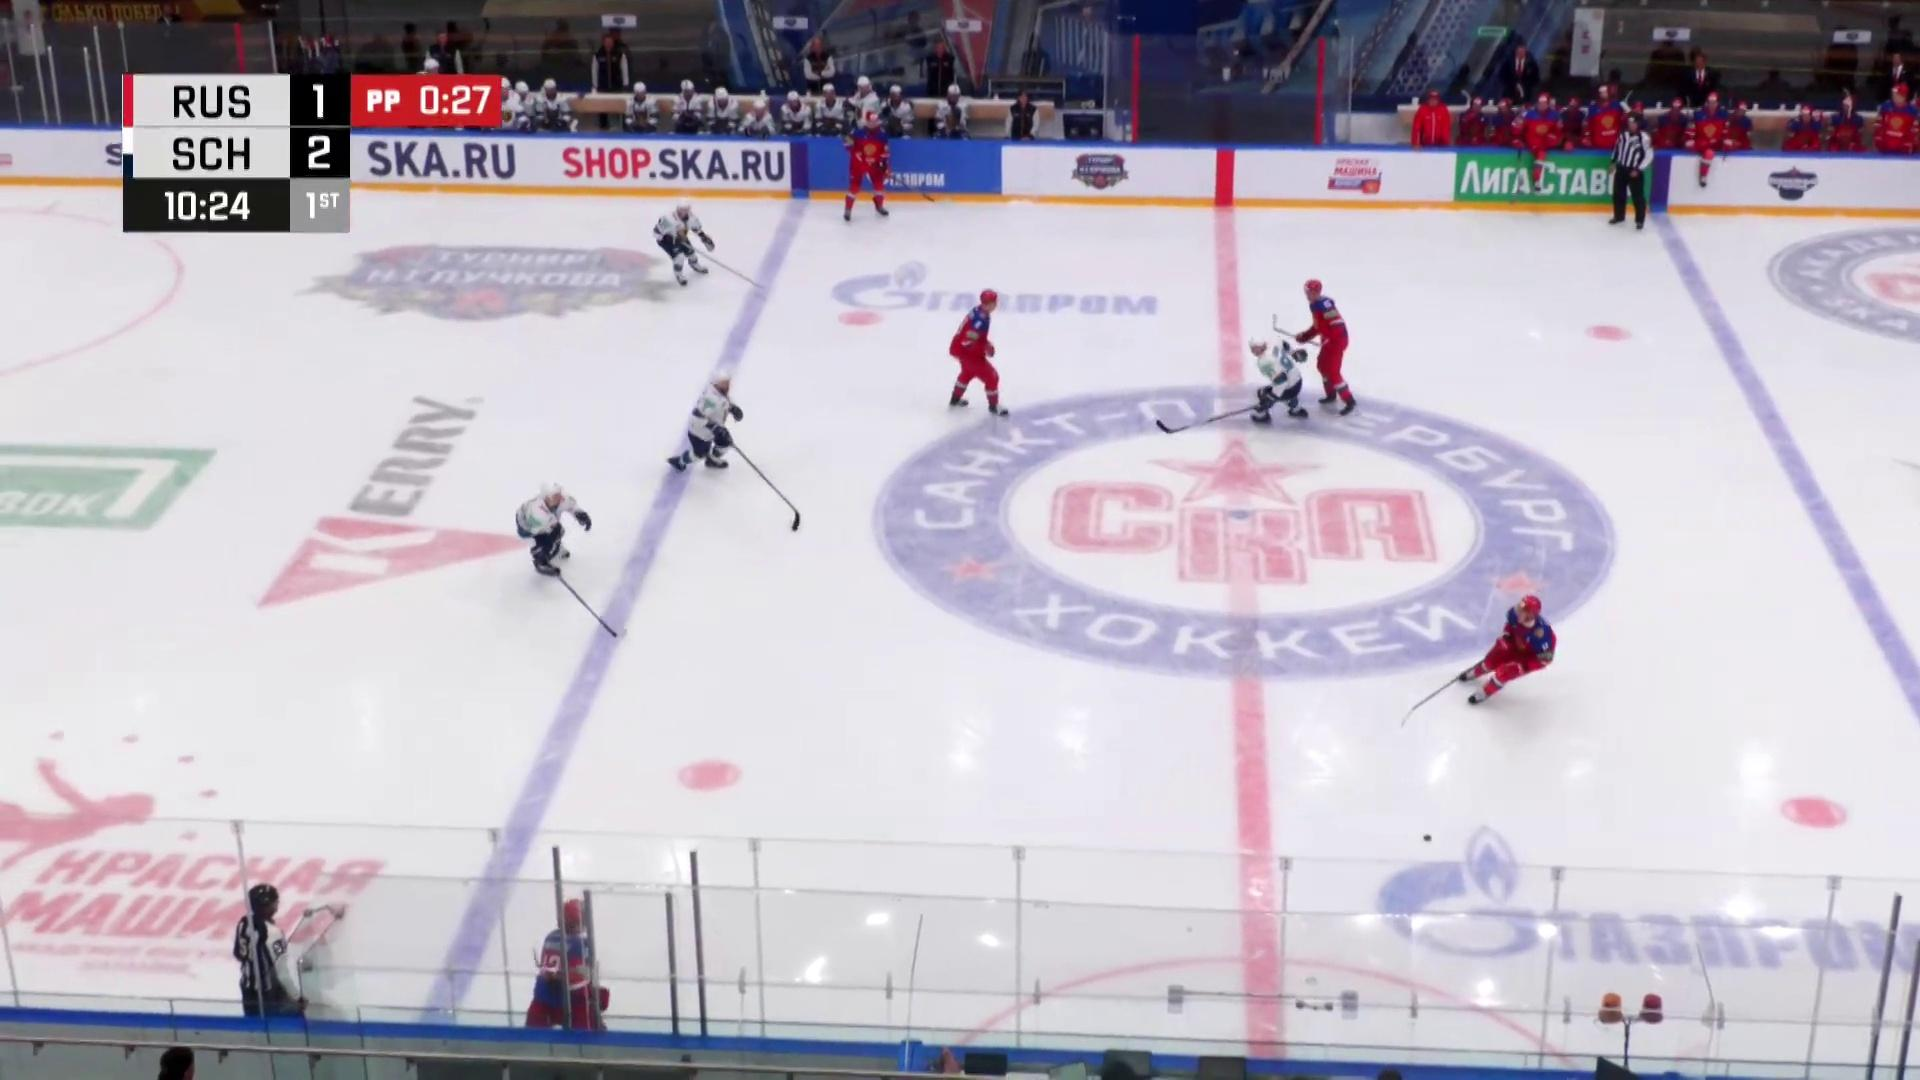ball: (1423, 833, 1432, 843)
